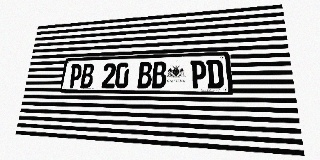0: (115, 62, 129, 88)
2: (102, 63, 116, 88)
B: (152, 61, 167, 88), (137, 62, 152, 88), (80, 64, 95, 88)
D: (206, 60, 224, 88)
P: (191, 60, 207, 88), (68, 64, 83, 88)
